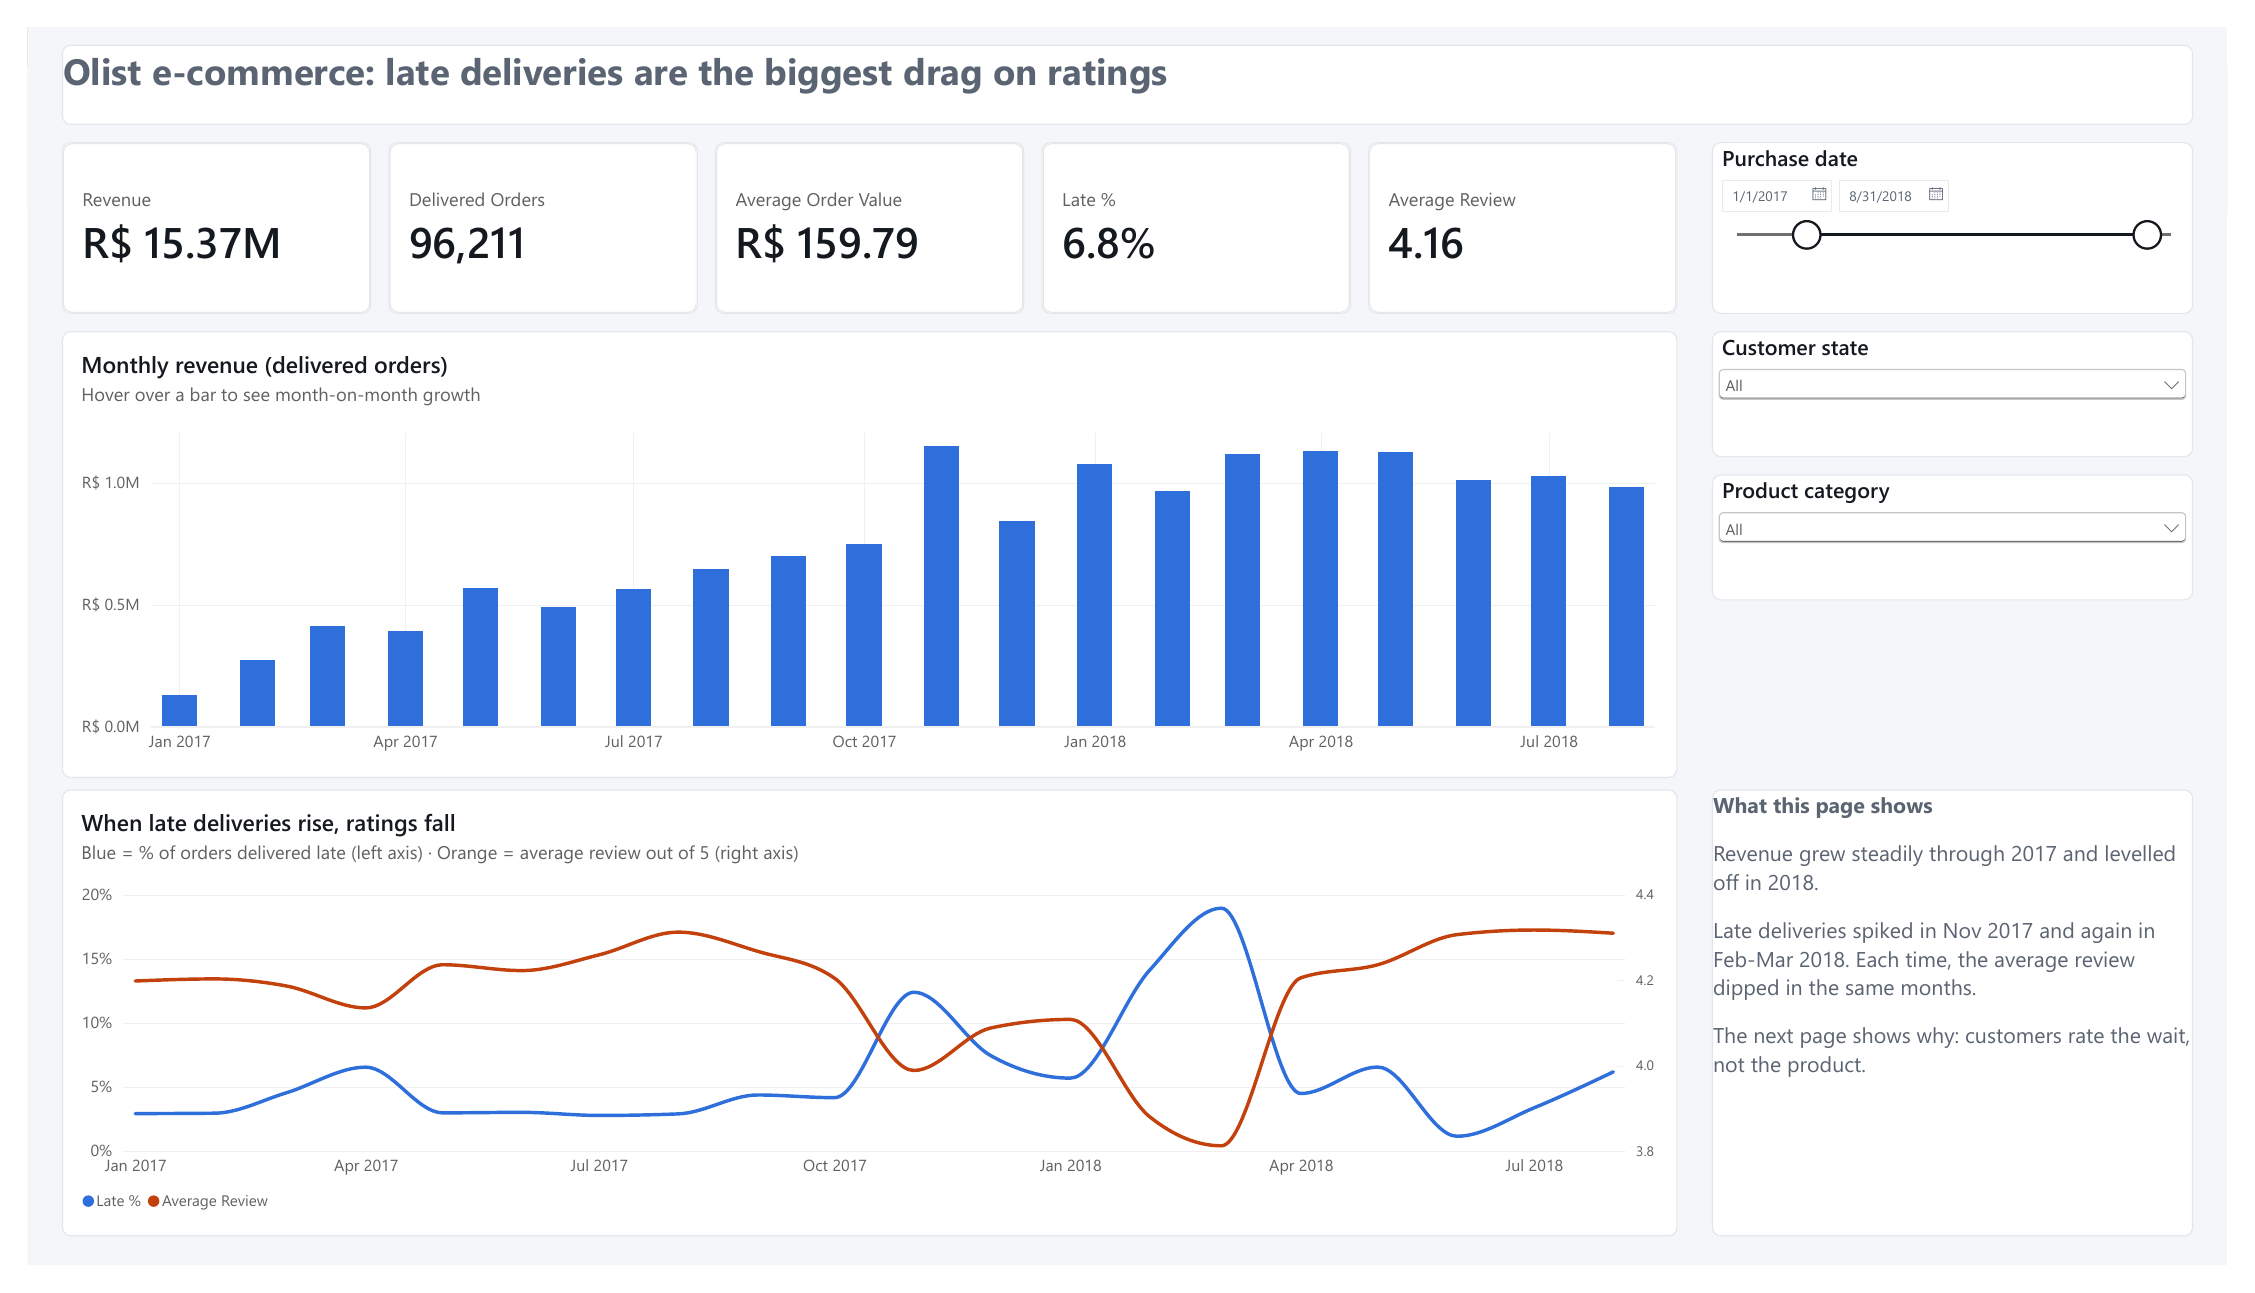

The page's visual inventory and layout, read from the dashboard file:
{"tool":"powerbi","page":{"name":"Overview","canvas":[1920,1080],"ordinal":0},"visuals":[{"type":"cardVisual","fields":{"Data":["_Measures.Revenue"]},"box":[30,100,270,150],"z":0},{"type":"cardVisual","fields":{"Data":["_Measures.Average Order Value"]},"box":[600,100,270,150],"z":1},{"type":"cardVisual","fields":{"Data":["_Measures.Late %"]},"box":[885,100,270,150],"z":2},{"type":"cardVisual","fields":{"Data":["_Measures.Delivered Orders Full"]},"box":[315,100,270,150],"z":3},{"type":"cardVisual","fields":{"Data":["_Measures.Average Review"]},"box":[1170,100,270,150],"z":4},{"type":"clusteredColumnChart","title":"Monthly revenue (delivered orders)","fields":{"Category":["dim_date.month_start"],"Y":["_Measures.Revenue"]},"box":[30,265,1410,390],"z":5},{"type":"lineChart","title":"When late deliveries rise, ratings fall","fields":{"Category":["dim_date.month_start"],"Y":["_Measures.Late %"],"Y2":["_Measures.Average Review"]},"box":[30,665,1410,390],"z":6},{"type":"slicer","fields":{"Values":["dim_date.date"]},"box":[1470,100,420,150],"z":7},{"type":"slicer","fields":{"Values":["fact_orders.customer_state"]},"box":[1470,265,420,110],"z":8},{"type":"slicer","fields":{"Values":["fact_orders.main_category"]},"box":[1470,390,420,110],"z":9},{"type":"textbox","box":[30,15,1860,70],"z":10},{"type":"textbox","box":[1470,665,420,390],"z":12}]}

Visuals, with their boxes in screenshot pixels (x1, y1, x2, y2), scaled from the page's 1920x1080 canvas onto the 2255x1293 screenshot:
cardVisual - _Measures.Revenue: bbox=(35, 120, 352, 299)
cardVisual - _Measures.Average Order Value: bbox=(705, 120, 1022, 299)
cardVisual - _Measures.Late %: bbox=(1039, 120, 1357, 299)
cardVisual - _Measures.Delivered Orders Full: bbox=(370, 120, 687, 299)
cardVisual - _Measures.Average Review: bbox=(1374, 120, 1691, 299)
"Monthly revenue (delivered orders)" clusteredColumnChart: bbox=(35, 317, 1691, 784)
"When late deliveries rise, ratings fall" lineChart: bbox=(35, 796, 1691, 1263)
slicer - dim_date.date: bbox=(1726, 120, 2220, 299)
slicer - fact_orders.customer_state: bbox=(1726, 317, 2220, 449)
slicer - fact_orders.main_category: bbox=(1726, 467, 2220, 599)
textbox: bbox=(35, 18, 2220, 102)
textbox: bbox=(1726, 796, 2220, 1263)
